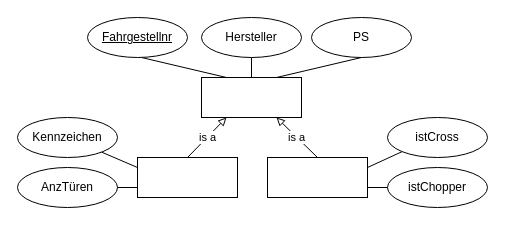
This 505x225 diagram has some shape labels left out. Each missing label, with the centre of its shape:
Kraftfahrzeug: (251,97)
Motorrad: (317,177)
PKW: (187,177)
